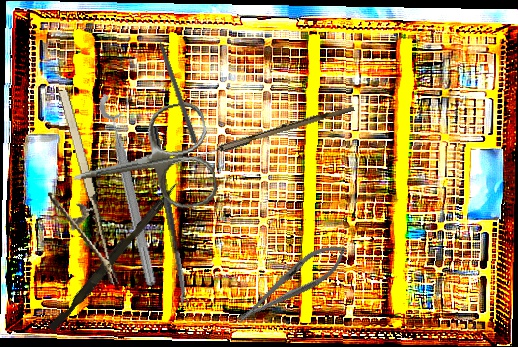Fixation Ring: (96, 87, 172, 289)
Iris Scissors: (63, 99, 221, 228)
Needle Holder: (26, 88, 119, 295), (229, 234, 354, 334)
Pusher: (48, 178, 179, 335), (151, 22, 200, 145)
Surgical Spoon: (171, 101, 355, 170), (149, 125, 189, 307)
